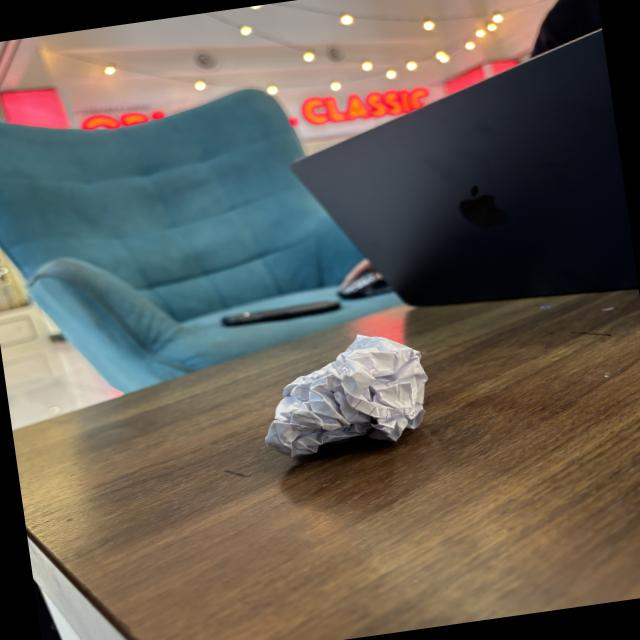crumpled_paper: (245, 319, 444, 469)
